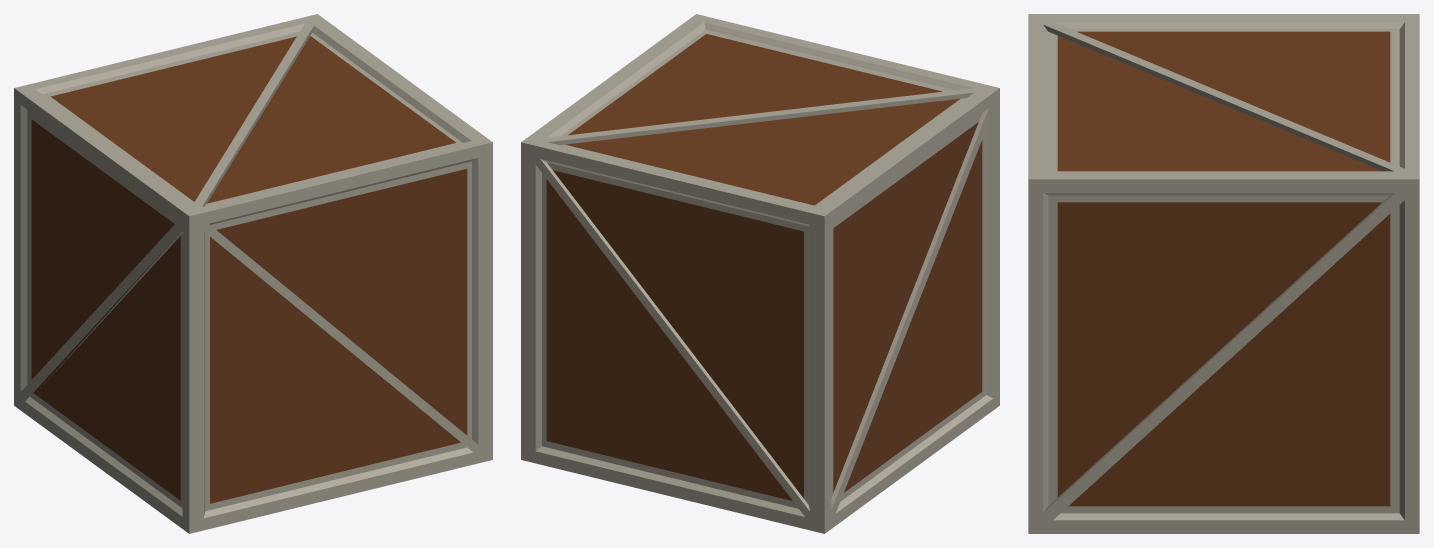
Rendered from Crate.fbx.
3 views of the same model, side by side, from view 1: azimuth 30°, elevation 25°; view 2: azimuth 150°, elevation 25°; view 3: azimuth 270°, elevation 25° (orthographic). The views are drawn at different scales.
Visible parts, largest first — view 1: Crate; view 2: Crate; view 3: Crate.
Boxes of the visible parts, x1,y1,x2,y2 form: Crate: (14, 14, 492, 533); Crate: (521, 14, 999, 533); Crate: (1028, 14, 1419, 533).
Size of the model in its own units: 206 by 206 by 206.
